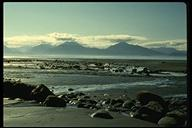mountain: (5, 39, 140, 62)
sky: (8, 4, 137, 29)
stone: (33, 82, 133, 107)
water: (6, 64, 136, 98)
